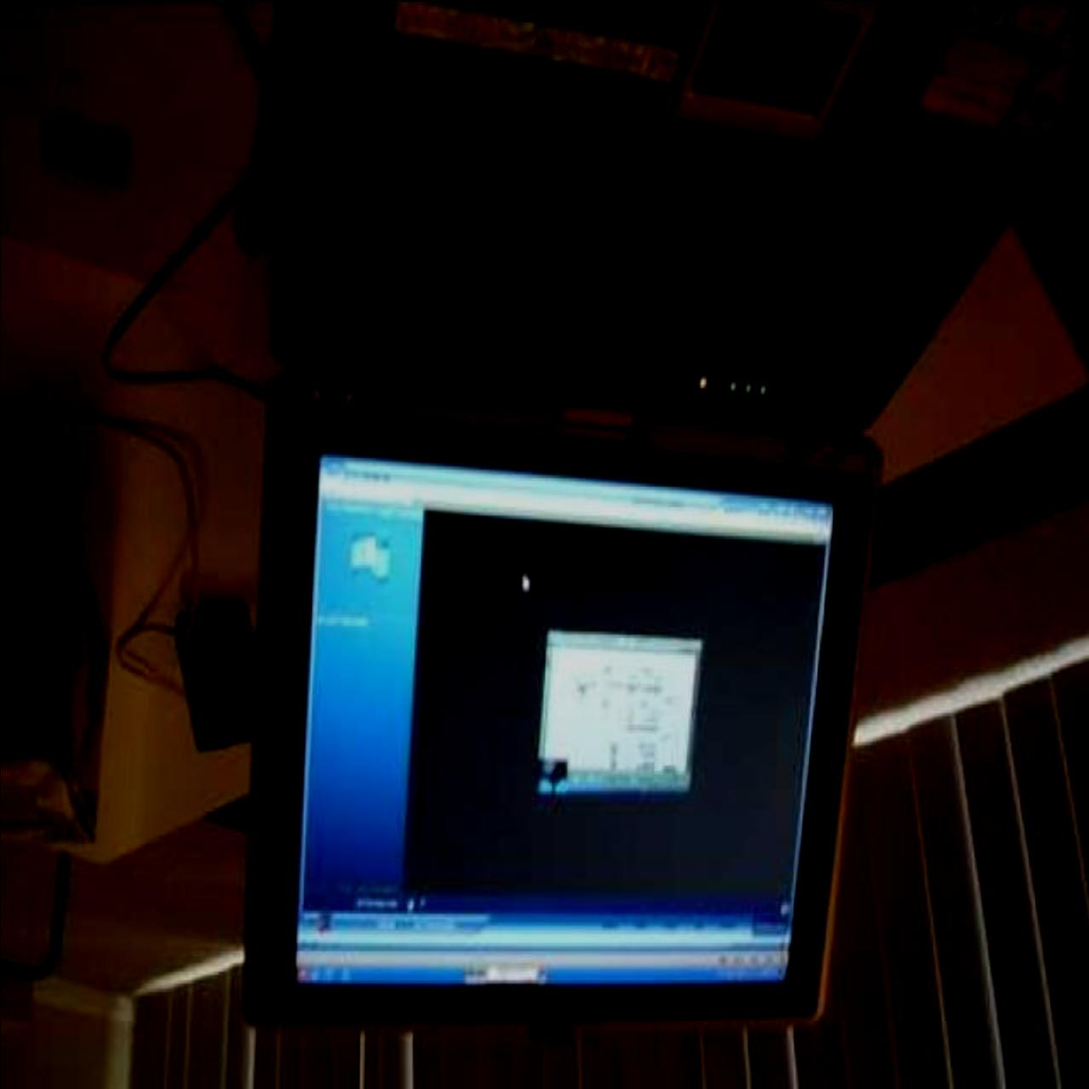laptop: (272, 0, 980, 1014)
